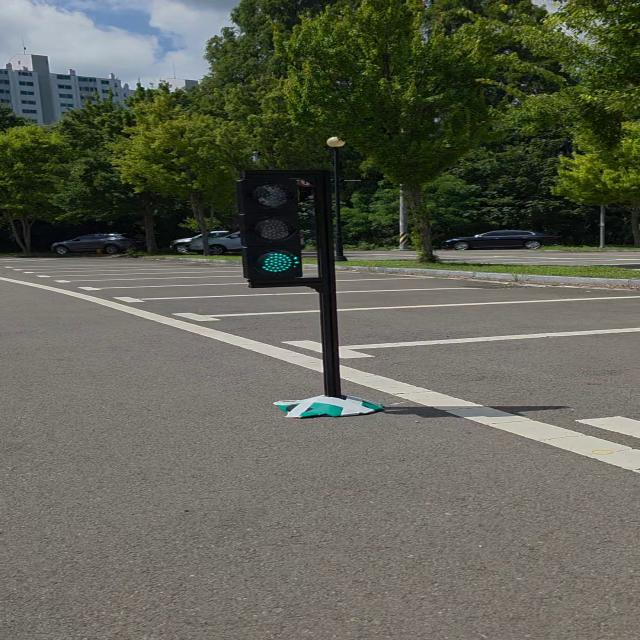green: (238, 174, 300, 288)
